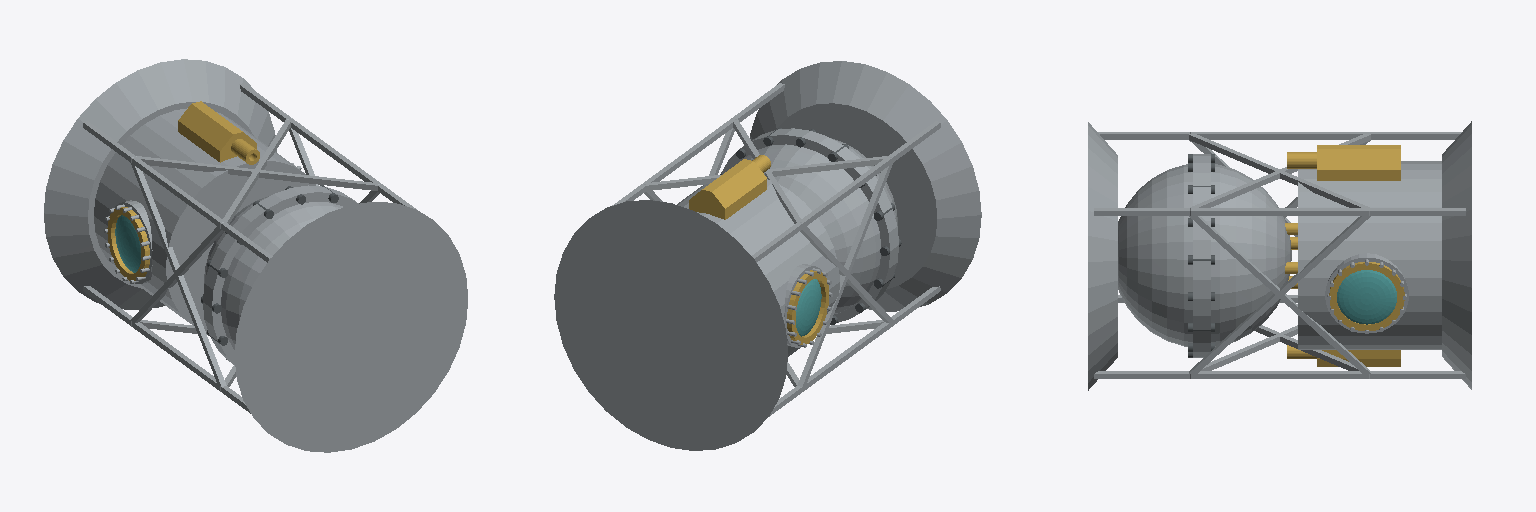
File: tinker.obj
3 views of the same model, side by side, from view 1: azimuth 30°, elevation 25°; view 2: azimuth 150°, elevation 25°; view 3: azimuth 270°, elevation 25° (orthographic).
Parts seen in each view (by area): view 1: obj_0; view 2: obj_0; view 3: obj_0.
Boxes of the visible parts, x1,y1,x2,y2 form: obj_0: [44, 59, 467, 452]; obj_0: [554, 61, 981, 450]; obj_0: [1088, 121, 1471, 390].
Bounding box in the file's own units: 45.25 × 45.25 × 64.